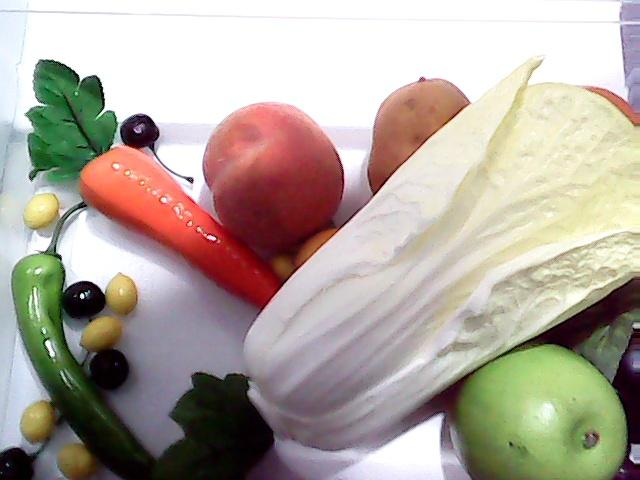apple: (445, 343, 629, 480), (450, 347, 625, 480)
carrot: (27, 60, 286, 312)
lemon: (579, 74, 640, 125)
mango: (294, 230, 348, 270)
napa cabbage: (238, 64, 640, 448)
peach: (202, 100, 344, 258)
pepper: (5, 228, 186, 480)
potato: (366, 77, 470, 197)
